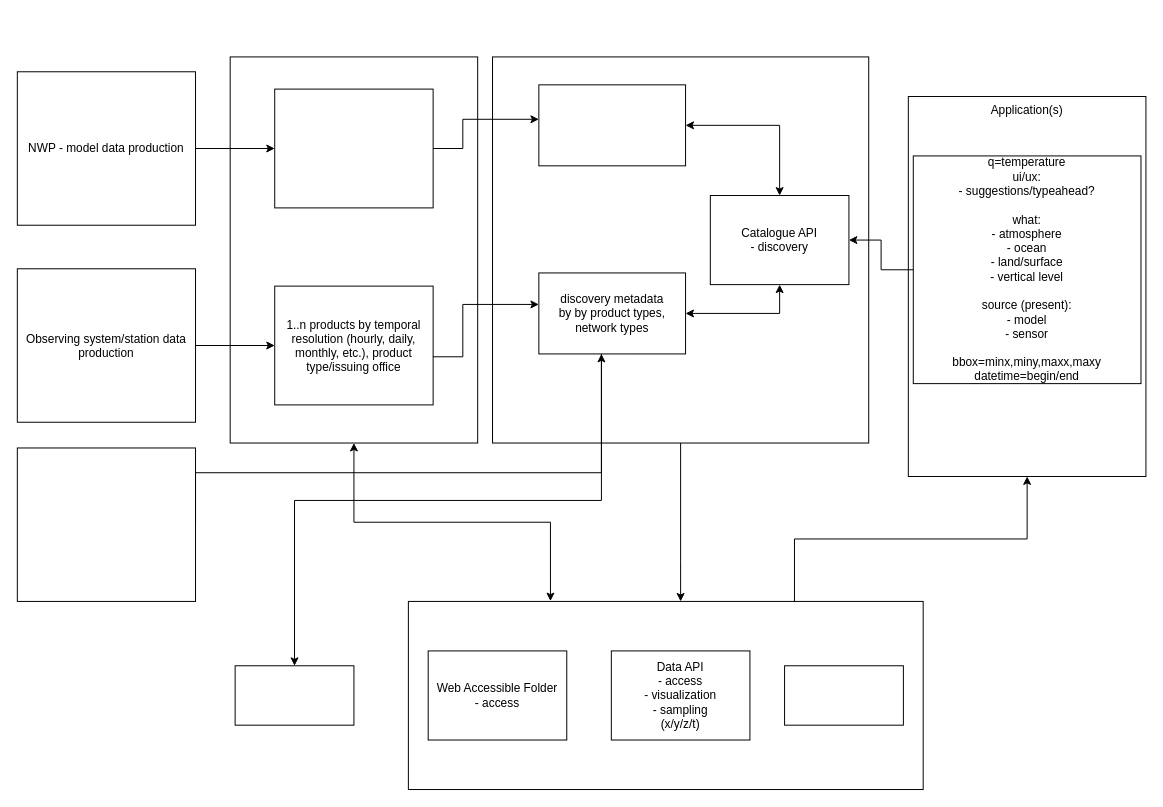
This 1163x807 diagram has some shape labels left out. Here are the shapes that lost their labels. From the top down, the centre of each, then its label:
At point 612,125: "discovery metadata by weather variable / vertical level/level type".
At point 353,148: "1..n products by model run, forecast hour, weather variable, vertical level".
At point 106,524: "Forecasts and warnings data production".
At point 294,695: "WMO OSCAR/Surface - station metadata".
At point 843,695: "PubSub (notifications)".
